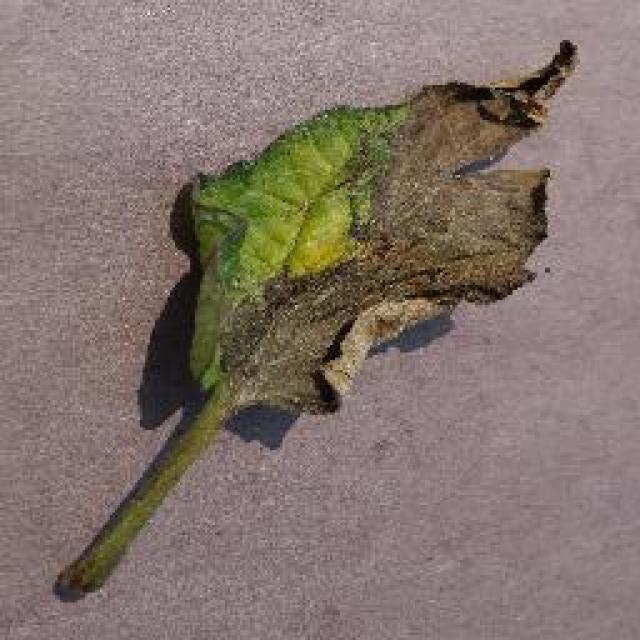Tomato___Late_blight: (53, 35, 581, 597)
